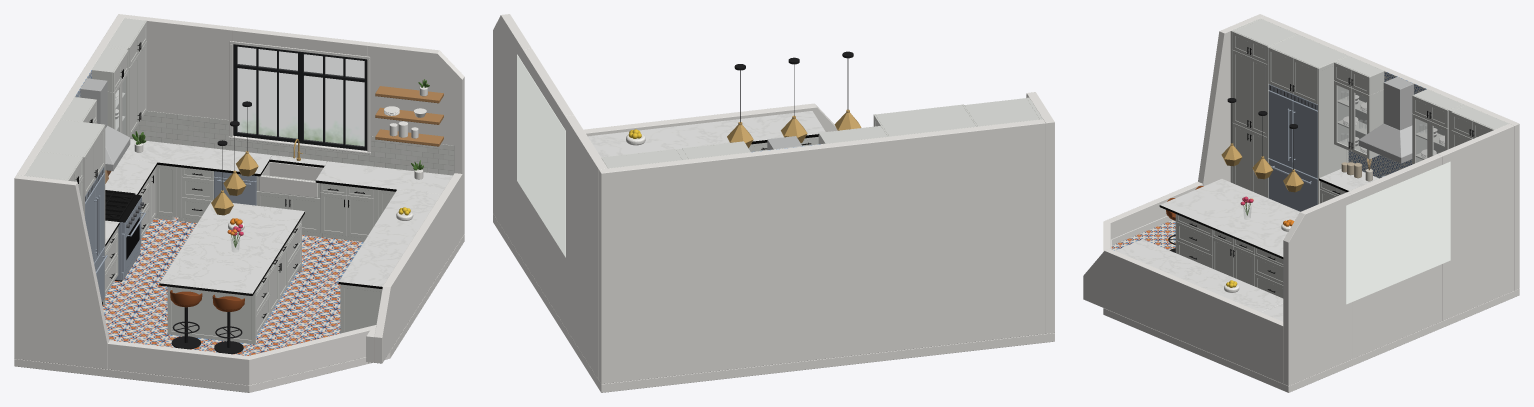
Rendered from kitchen.glb.
3 views of the same model, side by side, from view 1: azimuth 30°, elevation 25°; view 2: azimuth 150°, elevation 25°; view 3: azimuth 270°, elevation 25° (orthographic). The views are drawn at different scales.
Visible parts, largest first — view 1: walls_floor_slab, floor_cementtile, countertop_quartz, windowb_exteriorbackdrop, windowb_glass, island_countertop, backsplash_b, panel_cabinet_boxes, windowb_frame, island_door_deco_end_R, floatingshelves, sink_farmhouse (+27 smaller); view 2: walls_floor_slab, windowb_exteriorbackdrop, panel_cabinet_boxes, countertop_quartz, island_pendant_shades; view 3: walls_floor_slab, windowb_exteriorbackdrop, panel_cabinet_boxes, island_countertop, fridge_leaves, countertop_quartz, island, hood_chimney, door_deco_A_REP108_L, door_A11_TP30108_MR, door_A11_TP30108_ML, door_A11_TP30108_BR (+16 smaller).
Boxes of the visible parts, left/top/right/bottom form: walls_floor_slab: left=14, top=14, right=464, bottom=392; floor_cementtile: left=102, top=217, right=363, bottom=355; countertop_quartz: left=105, top=139, right=452, bottom=288; windowb_exteriorbackdrop: left=237, top=46, right=364, bottom=145; windowb_glass: left=237, top=47, right=364, bottom=146; island_countertop: left=159, top=200, right=304, bottom=295; backsplash_b: left=130, top=110, right=454, bottom=175; panel_cabinet_boxes: left=24, top=18, right=378, bottom=241; windowb_frame: left=233, top=44, right=367, bottom=150; island_door_deco_end_R: left=167, top=286, right=255, bottom=344; floatingshelves: left=375, top=86, right=443, bottom=146; sink_farmhouse: left=259, top=162, right=322, bottom=197; walls_floor_slab: left=493, top=14, right=1054, bottom=392; windowb_exteriorbackdrop: left=517, top=54, right=565, bottom=257; panel_cabinet_boxes: left=601, top=97, right=1042, bottom=168; countertop_quartz: left=588, top=111, right=825, bottom=157; island_pendant_shades: left=727, top=109, right=861, bottom=148; walls_floor_slab: left=1083, top=14, right=1519, bottom=392; windowb_exteriorbackdrop: left=1346, top=161, right=1450, bottom=304; panel_cabinet_boxes: left=1230, top=18, right=1508, bottom=198; island_countertop: left=1159, top=179, right=1299, bottom=258; fridge_leaves: left=1268, top=84, right=1317, bottom=211; countertop_quartz: left=1115, top=169, right=1378, bottom=321; island: left=1176, top=214, right=1283, bottom=298; hood_chimney: left=1358, top=77, right=1413, bottom=163; door_deco_A_REP108_L: left=1318, top=55, right=1348, bottom=204; door_A11_TP30108_MR: left=1232, top=50, right=1250, bottom=129; door_A11_TP30108_ML: left=1250, top=57, right=1267, bottom=136; door_A11_TP30108_BR: left=1232, top=123, right=1250, bottom=190.
Size of the model in its own units: 7.43 by 2.87 by 6.61.
Materials: 39 (6 with a texture image).
